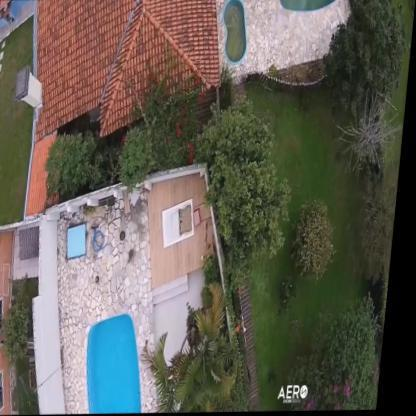agua: (220, 1, 251, 66)
